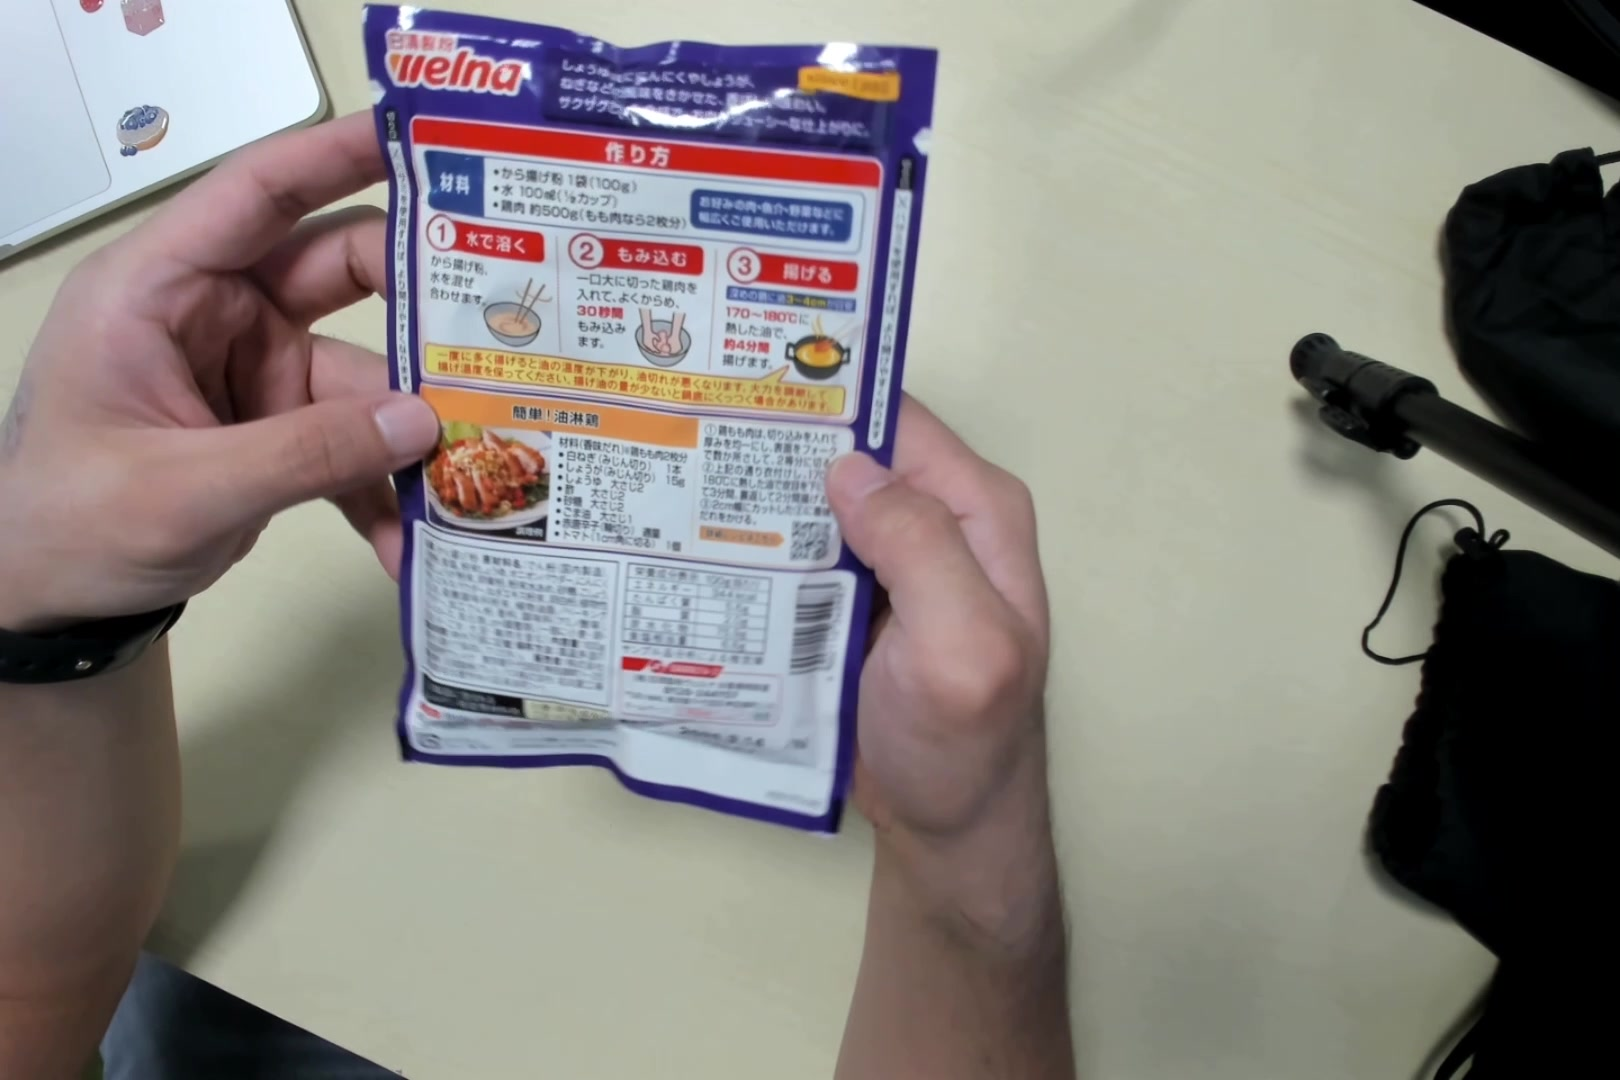OtherBakingNeeds_100-199g_NonHalal_NonHealthy: (368, 1, 933, 826)
